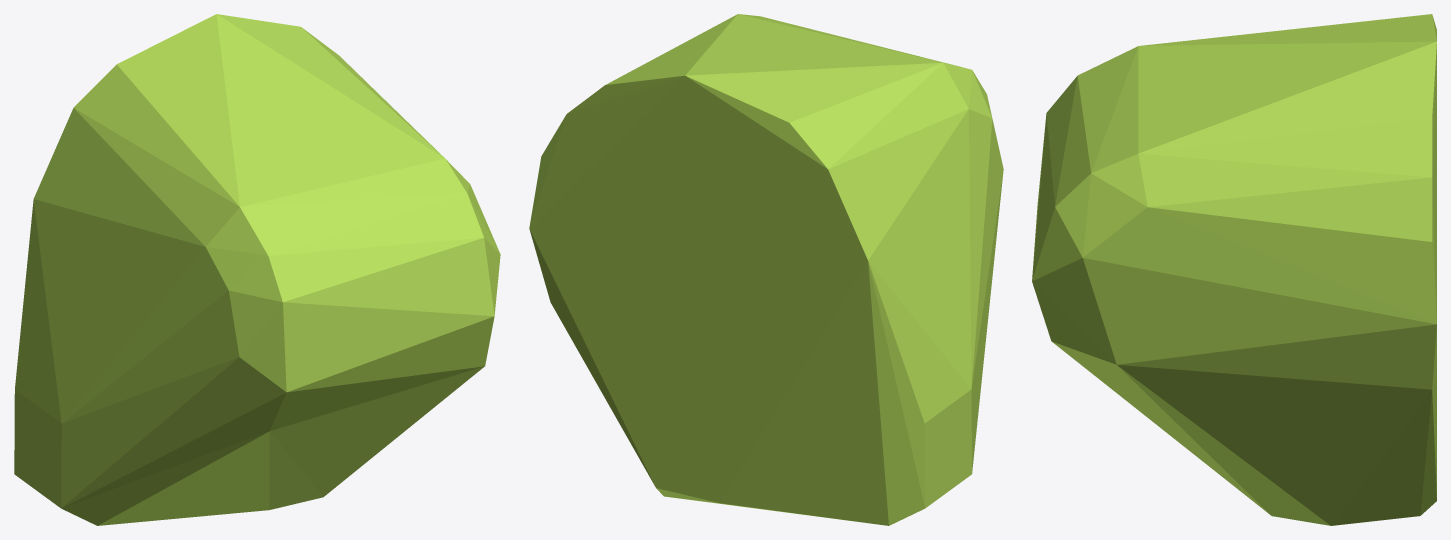
The model's file is niryo_one_Link_coll_1.dae.
3 views of the same model, side by side, from view 1: azimuth 30°, elevation 25°; view 2: azimuth 150°, elevation 25°; view 3: azimuth 270°, elevation 25° (orthographic). The views are drawn at different scales.
Parts seen in each view (by area): view 1: Node_00000276BF537550; view 2: Node_00000276BF537550; view 3: Node_00000276BF537550.
Boxes of the visible parts, x1,y1,x2,y2 form: Node_00000276BF537550: (14, 14, 500, 525); Node_00000276BF537550: (529, 14, 1003, 525); Node_00000276BF537550: (1032, 14, 1436, 525).
Size of the model in its own units: 0.1395 by 0.1562 by 0.1225.
